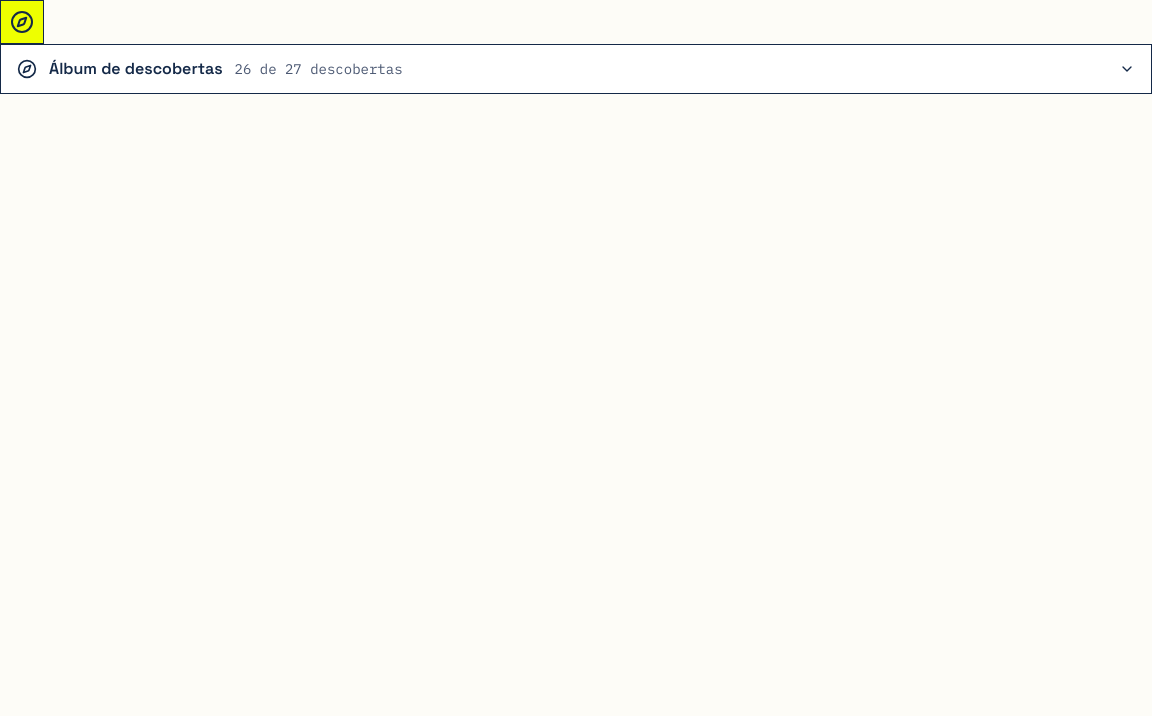
Scenario: keeps the full collection available when the final pending clue is found
The width and height of the screenshot is (1152, 716).
Click the text "Álbum de descobertas": click(136, 69) left=49, top=57, right=222, bottom=81
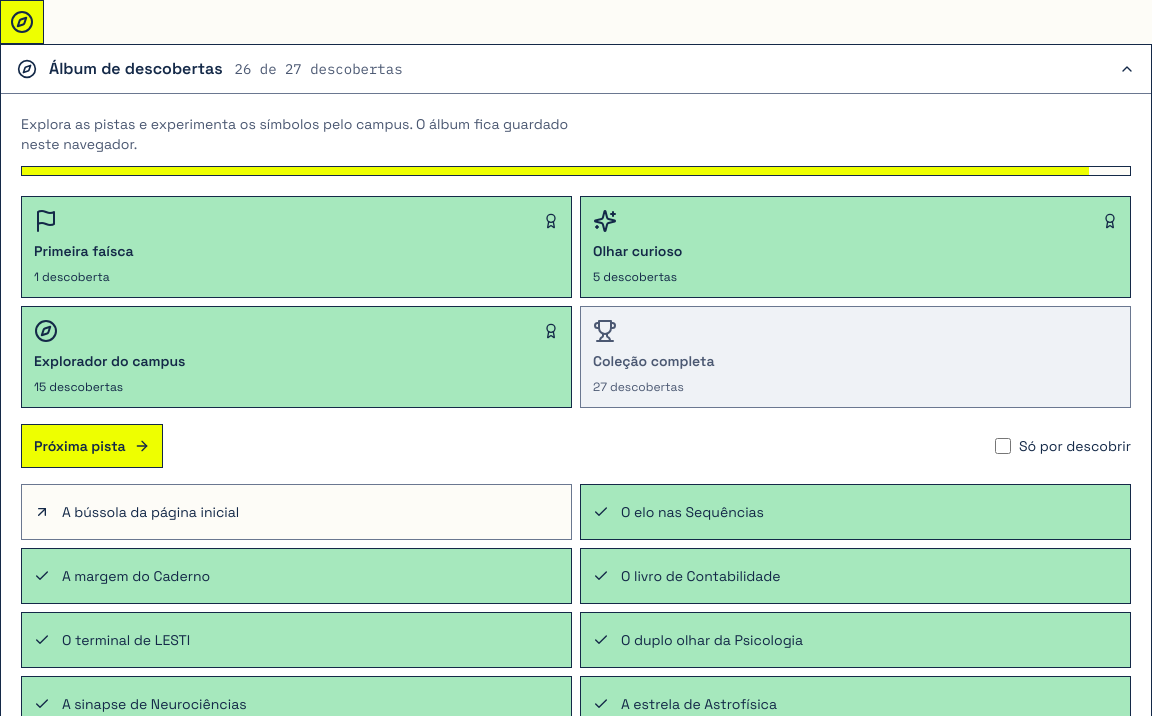
Click the checkbox labelled "Só por descobrir": click(1003, 446) left=995, top=438, right=1011, bottom=454
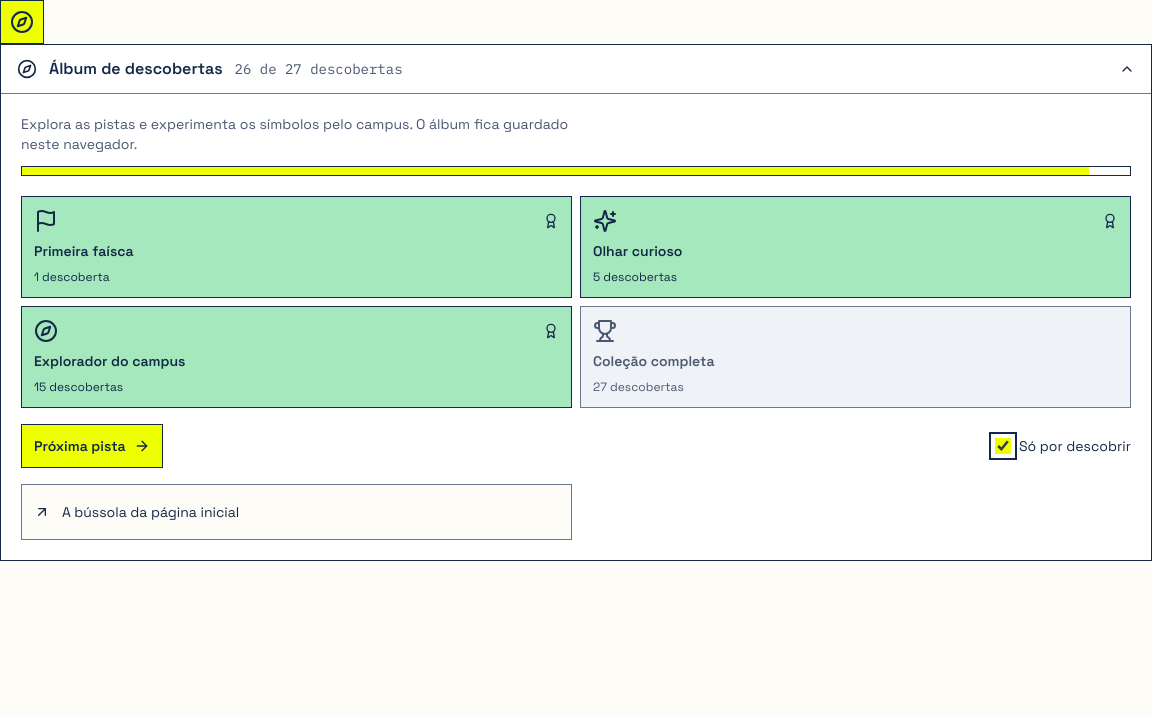
Result: the number of links is 2 at left=21, top=424, right=163, bottom=468; left=21, top=484, right=572, bottom=540
Click the button named "A bússola da página inicial": click(22, 22) left=0, top=0, right=44, bottom=44
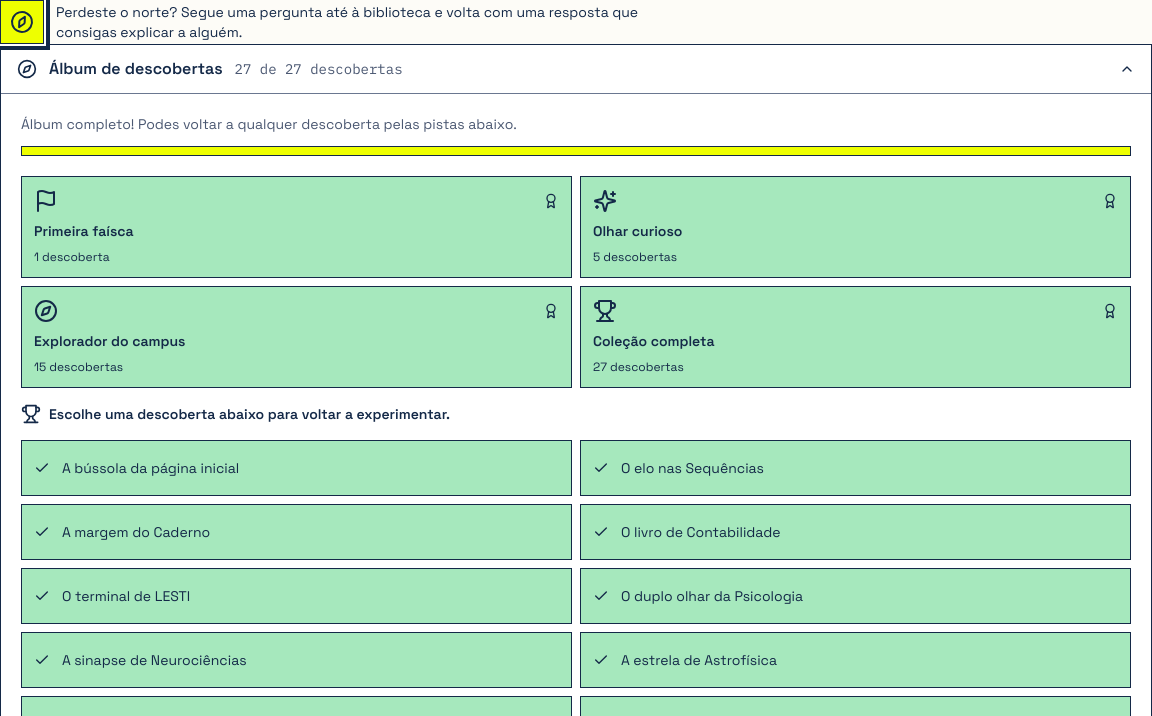
Result: the checkbox is gone
Result: the number of links is 27
Result: the text "Escolhe uma descoberta abaixo para voltar a experimentar." is shown at left=21, top=404, right=450, bottom=424
